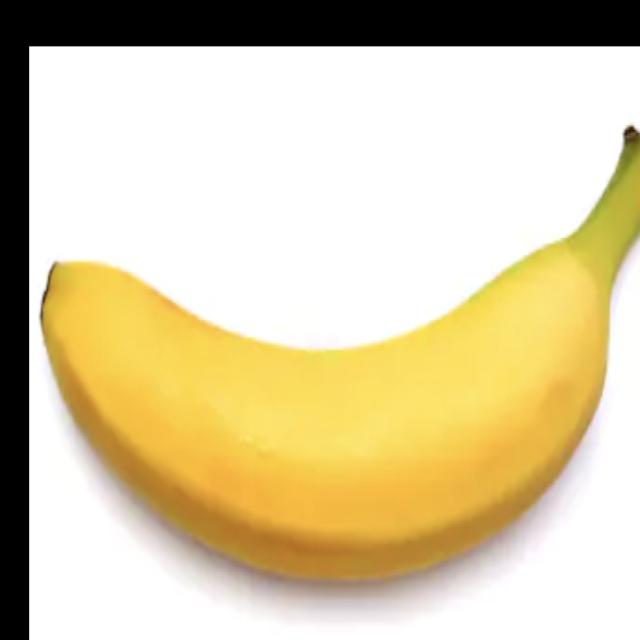Ripe: (31, 93, 640, 584)
